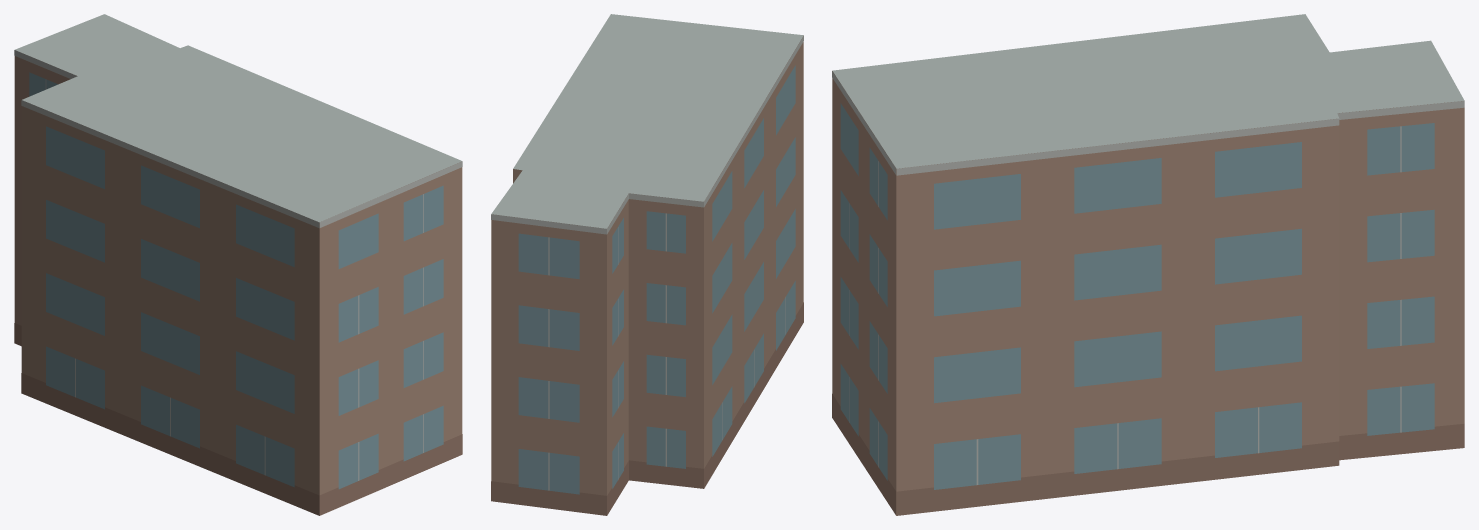
Rendered from survey-upis-32712863.glb.
3 views of the same model, side by side, from view 1: azimuth 30°, elevation 25°; view 2: azimuth 150°, elevation 25°; view 3: azimuth 270°, elevation 25° (orthographic). The views are drawn at different scales.
Parts seen in each view (by area): view 1: survey-upis-32712863.tmp; view 2: survey-upis-32712863.tmp; view 3: survey-upis-32712863.tmp.
Boxes of the visible parts, box(x1,y1,x2,y2) form: survey-upis-32712863.tmp: box(14, 14, 462, 515); survey-upis-32712863.tmp: box(491, 14, 803, 515); survey-upis-32712863.tmp: box(832, 14, 1464, 515).
Size of the model in its own units: 11.67 by 12.2 by 20.15.
